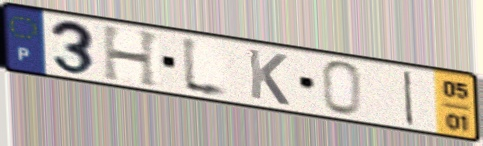0: (318, 58, 368, 118)
3: (49, 18, 104, 78)
H: (99, 23, 163, 90)
I: (402, 68, 417, 128)
K: (245, 46, 292, 108)
L: (179, 33, 234, 104)
